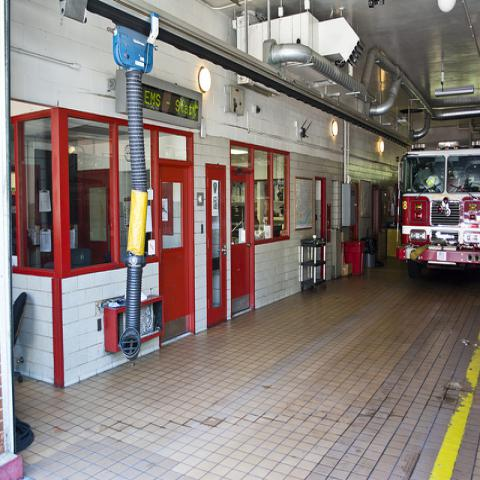truck: (396, 142, 479, 282)
